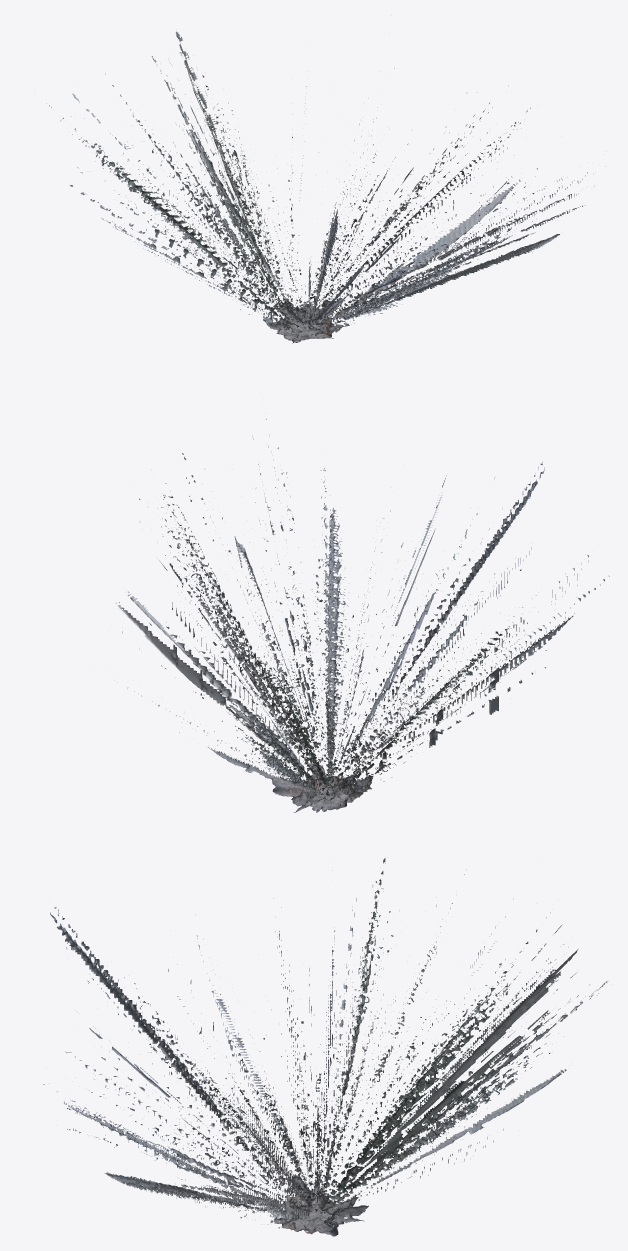
File: Nevada en Plaza de Mayo_collider.glb
3 renders of one model, top to bottom at view 1: azimuth 30°, elevation 25°; view 2: azimuth 150°, elevation 25°; view 3: azimuth 270°, elevation 25°, orthographic. The views are drawn at different scales.
Visible parts, largest first — view 1: world; view 2: world; view 3: world.
Part boxes in pixels (<box>): world: <box>46,15,605,343</box>; world: <box>114,419,609,812</box>; world: <box>43,858,607,1236</box>.
Bounding box in the file's own units: 914 × 493 × 950.
